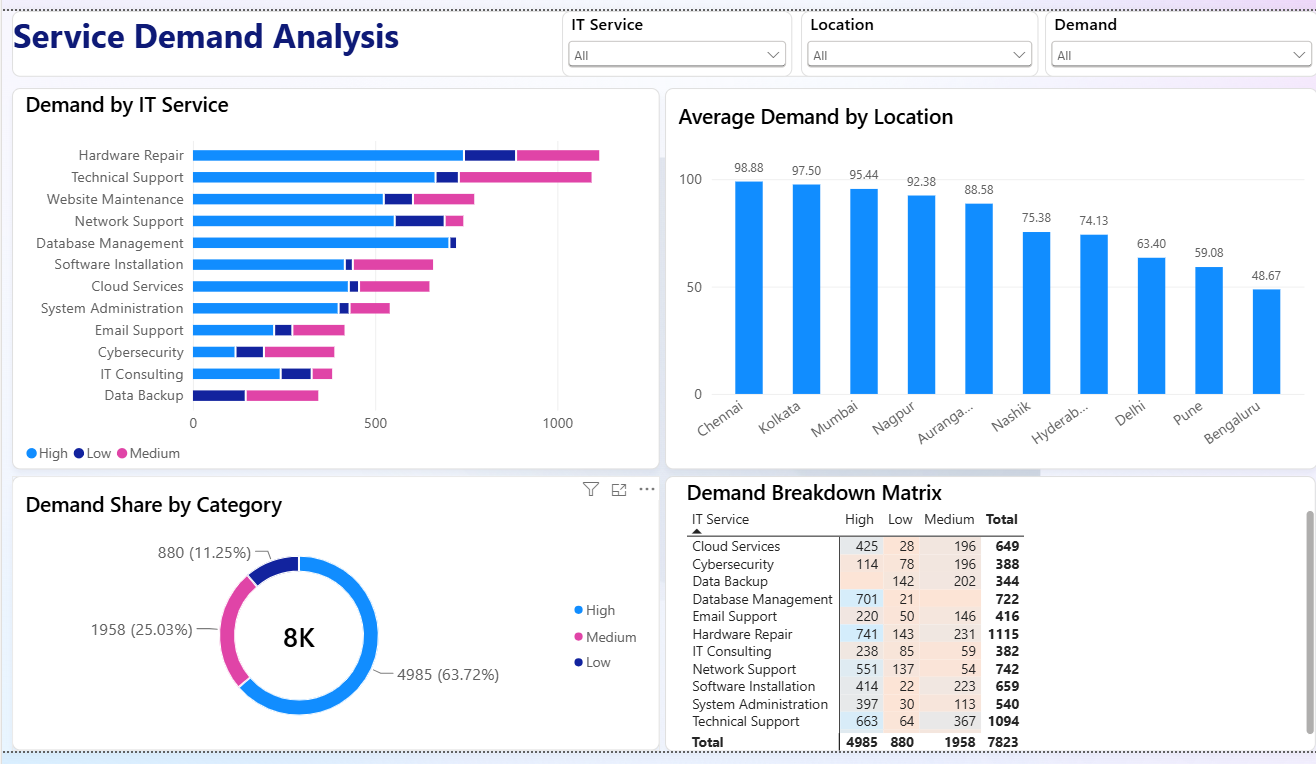

Layout of this report page (visuals, bound fields, positions):
{"tool":"powerbi","page":{"name":"Page 2","canvas":[1280,720],"ordinal":1},"visuals":[{"type":"textbox","box":[9.7,0,1270.3,64.2],"z":0},{"type":"barChart","title":"Demand by IT Service","fields":{"Category":["it_service_demand_100_rows (1).IT Service"],"Series":["it_service_demand_100_rows (1).Demand"],"Y":["Sum(it_service_demand_100_rows (1).Request Count)"]},"box":[9.7,74.9,630.3,370.6],"z":1000},{"type":"clusteredColumnChart","title":"Average Demand by Location","fields":{"Category":["it_service_demand_100_rows (1).Location"],"Y":["Avg(it_service_demand_100_rows (1).Request Count)"]},"box":[644.9,74.9,635.1,370.6],"z":2000},{"type":"donutChart","title":"Demand Share by Category","fields":{"Category":["it_service_demand_100_rows (1).Demand"],"Y":["Sum(it_service_demand_100_rows (1).Request Count)"]},"box":[9.7,452.3,630.3,267.5],"z":3000},{"type":"slicer","fields":{"Values":["it_service_demand_100_rows (1).IT Service"]},"box":[544.7,0,223.7,64.2],"z":4000},{"type":"slicer","fields":{"Values":["it_service_demand_100_rows (1).Location"]},"box":[777.1,0,230.5,64.2],"z":5000},{"type":"slicer","fields":{"Values":["it_service_demand_100_rows (1).Demand"]},"box":[1014.5,0,265.5,64.2],"z":6000},{"type":"pivotTable","title":"Demand Breakdown Matrix","fields":{"Columns":["it_service_demand_100_rows (1).Demand"],"Rows":["it_service_demand_100_rows (1).IT Service"],"Values":["Sum(it_service_demand_100_rows (1).Request Count)"]},"box":[644.9,452.3,633,268],"z":7000}]}

Visuals, with their boxes on the page's 1280x720 design canvas (x1, y1, x2, y2). These are canvas units, not pixel positions in the 1316x764 screenshot, which may show the page scaled, cropped or inside an application window:
textbox: bbox(10, 0, 1280, 64)
"Demand by IT Service" barChart: bbox(10, 75, 640, 446)
"Average Demand by Location" clusteredColumnChart: bbox(645, 75, 1280, 446)
"Demand Share by Category" donutChart: bbox(10, 452, 640, 720)
slicer - it_service_demand_100_rows (1).IT Service: bbox(545, 0, 768, 64)
slicer - it_service_demand_100_rows (1).Location: bbox(777, 0, 1008, 64)
slicer - it_service_demand_100_rows (1).Demand: bbox(1014, 0, 1280, 64)
"Demand Breakdown Matrix" pivotTable: bbox(645, 452, 1278, 720)
